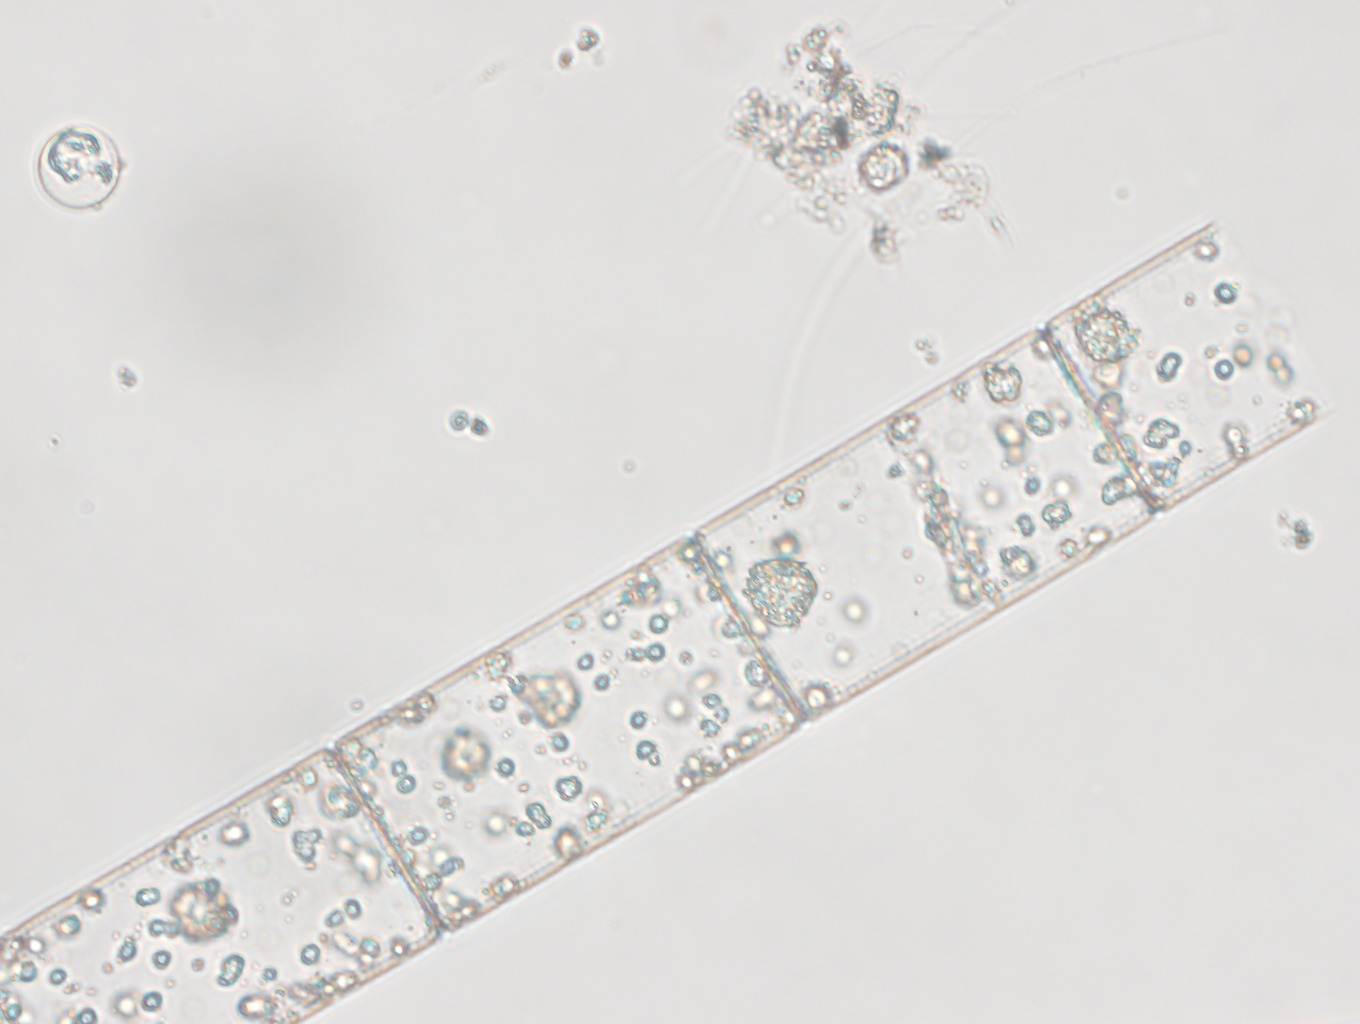guinardia flaccida: (1, 223, 1337, 1024)
